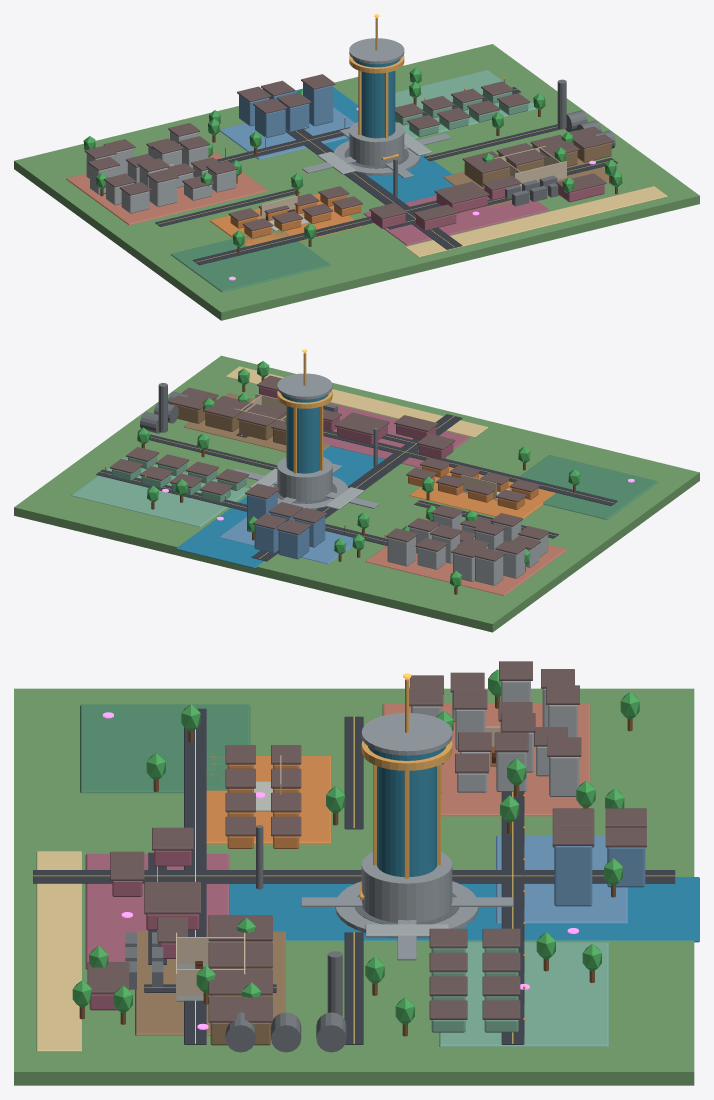
Rendered from lagos-shadow-frontier.glb.
3 renders of one model, top to bottom at view 1: azimuth 30°, elevation 25°; view 2: azimuth 150°, elevation 25°; view 3: azimuth 270°, elevation 25°, orthographic. The views are drawn at different scales.
Visible parts, largest first — view 1: WORLD_Terrain_Base, DISTRICT_Forest_Wilderness, BEACH_Coastal_Strand, DISTRICT_Mainland_Yaba, WATER_Lagoon, DISTRICT_BattleZone_South, DISTRICT_Lekki_Residential, TOWER_Shaft, ROAD_Arterial_South, DISTRICT_Island_Central, ROAD_Causeway, TOWER_Base (+21 smaller); view 2: WORLD_Terrain_Base, DISTRICT_Forest_Wilderness, DISTRICT_Lekki_Residential, WATER_Lagoon, DISTRICT_Mainland_Yaba, BEACH_Coastal_Strand, TOWER_Shaft, DISTRICT_Market_Cultural, TOWER_Base, ROAD_Causeway, ROAD_Arterial_South, DISTRICT_BattleZone_South (+22 smaller); view 3: WORLD_Terrain_Base, WATER_Lagoon, DISTRICT_Forest_Wilderness, DISTRICT_Lekki_Residential, BEACH_Coastal_Strand, TOWER_Shaft, ROAD_Causeway, DISTRICT_Mainland_Yaba, DISTRICT_BattleZone_South, DISTRICT_Island_Central, DISTRICT_Market_Cultural, TOWER_Base (+59 smaller).
Part boxes in pixels (<box>): WORLD_Terrain_Base: <box>14,44,699,320</box>; DISTRICT_Forest_Wilderness: <box>170,229,331,292</box>; BEACH_Coastal_Strand: <box>405,186,667,257</box>; DISTRICT_Mainland_Yaba: <box>66,150,267,225</box>; WATER_Lagoon: <box>293,87,453,202</box>; DISTRICT_BattleZone_South: <box>363,195,549,245</box>; DISTRICT_Lekki_Residential: <box>395,70,536,138</box>; TOWER_Shaft: <box>361,70,395,138</box>; ROAD_Arterial_South: <box>192,158,617,265</box>; DISTRICT_Island_Central: <box>220,107,354,159</box>; ROAD_Causeway: <box>285,129,462,249</box>; TOWER_Base: <box>349,122,404,166</box>; WORLD_Terrain_Base: <box>14,355,699,632</box>; DISTRICT_Forest_Wilderness: <box>520,455,658,519</box>; DISTRICT_Lekki_Residential: <box>71,457,250,527</box>; WATER_Lagoon: <box>176,446,384,568</box>; DISTRICT_Mainland_Yaba: <box>365,517,567,595</box>; BEACH_Coastal_Strand: <box>225,366,488,437</box>; TOWER_Shaft: <box>286,406,319,473</box>; DISTRICT_Market_Cultural: <box>409,466,555,518</box>; TOWER_Base: <box>277,457,332,501</box>; ROAD_Causeway: <box>251,414,462,561</box>; ROAD_Arterial_South: <box>323,429,617,505</box>; DISTRICT_BattleZone_South: <box>323,403,469,468</box>; WORLD_Terrain_Base: <box>14,688,694,1085</box>; WATER_Lagoon: <box>229,877,699,942</box>; DISTRICT_Forest_Wilderness: <box>80,704,250,793</box>; DISTRICT_Lekki_Residential: <box>439,942,609,1046</box>; BEACH_Coastal_Strand: <box>36,851,81,1051</box>; TOWER_Shaft: <box>377,766,436,876</box>; ROAD_Causeway: <box>33,870,675,883</box>; DISTRICT_Mainland_Yaba: <box>382,703,590,816</box>; DISTRICT_BattleZone_South: <box>85,853,229,969</box>; DISTRICT_Island_Central: <box>496,835,627,923</box>; DISTRICT_Market_Cultural: <box>206,755,331,844</box>; TOWER_Base: <box>361,852,452,922</box>.
Size of the model in its own units: 240 by 72.25 by 182.
